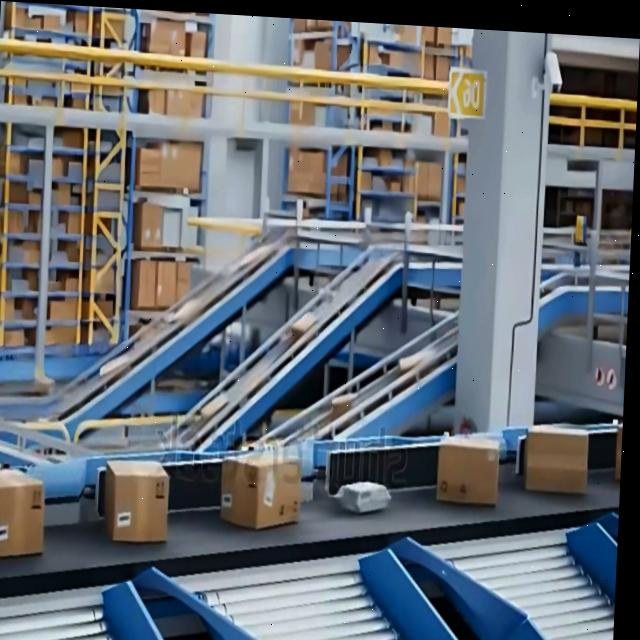product 1: (218, 441, 304, 532), (101, 455, 171, 545), (435, 431, 500, 506)
product 2: (332, 476, 391, 515)
